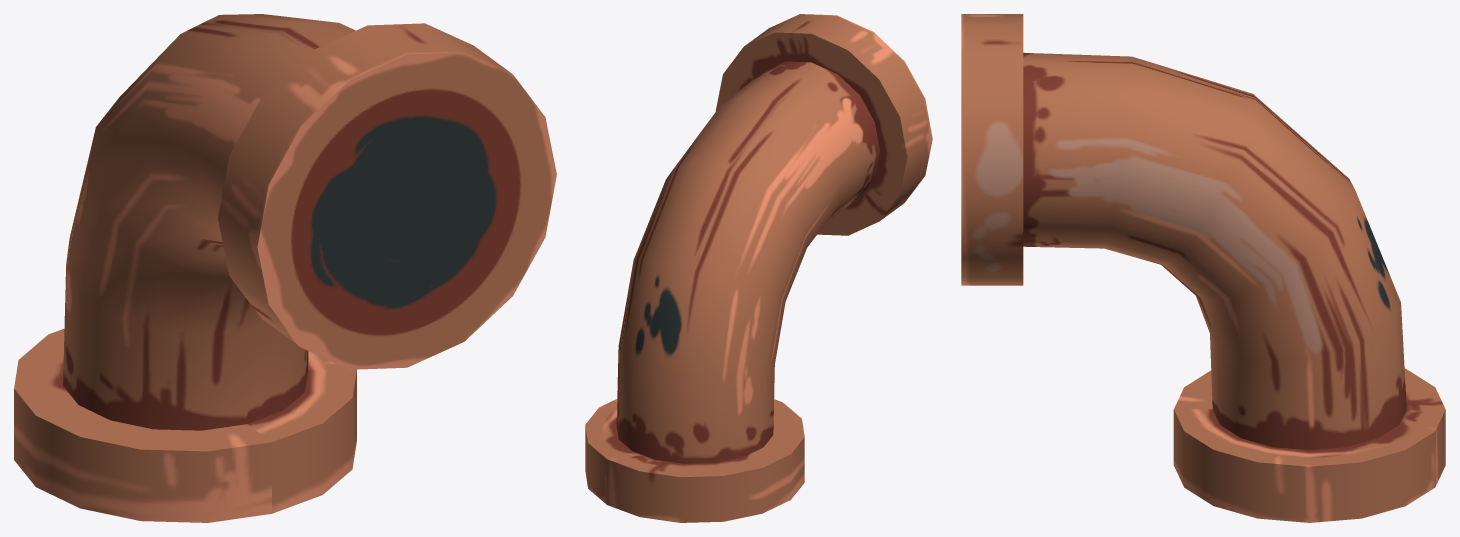
File: Pipe1Corner1.glb
3 renders of one model, left to right at view 1: azimuth 30°, elevation 25°; view 2: azimuth 150°, elevation 25°; view 3: azimuth 270°, elevation 25°, orthographic. The views are drawn at different scales.
Parts seen in each view (by area): view 1: Pipe1Corner1; view 2: Pipe1Corner1; view 3: Pipe1Corner1.
Part boxes in pixels (left/top/right/bottom): Pipe1Corner1: left=14, top=14, right=556, bottom=522; Pipe1Corner1: left=585, top=14, right=932, bottom=522; Pipe1Corner1: left=961, top=14, right=1445, bottom=522.
Bounding box in the file's own units: 0.8759 × 1.56 × 1.56.
Materials: 1 (1 with a texture image).
